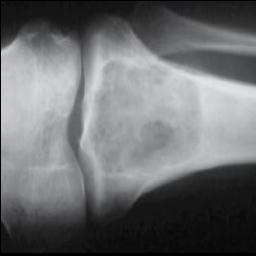cancer: (94, 58, 201, 178)
